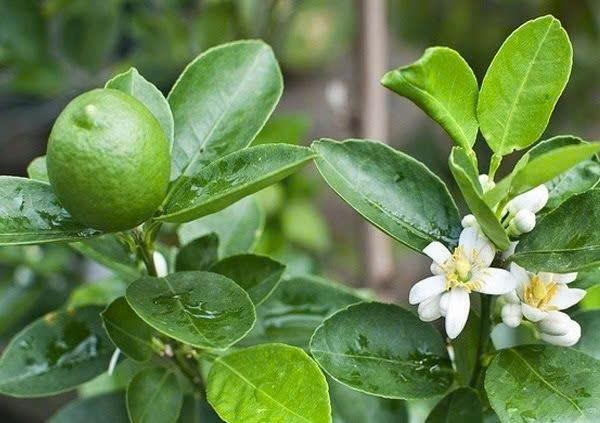lime: (43, 79, 173, 240)
